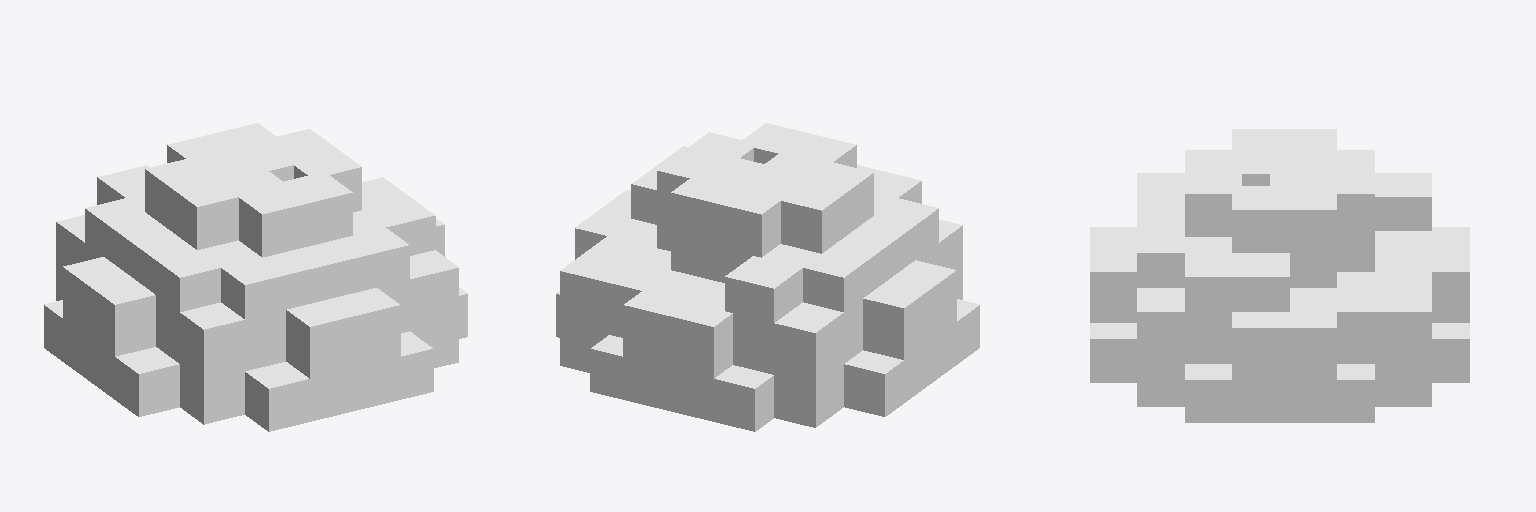
File: ZonaMundoPelea-3-RocaGrande2.obj
3 renders of one model, left to right at view 1: azimuth 30°, elevation 25°; view 2: azimuth 150°, elevation 25°; view 3: azimuth 270°, elevation 25°, orthographic.
Visible parts, largest first — view 1: RocaGrande2; view 2: RocaGrande2; view 3: RocaGrande2.
Boxes of the visible parts, box(x1,y1,x2,y2) form: RocaGrande2: box(44, 123, 467, 431); RocaGrande2: box(556, 123, 979, 431); RocaGrande2: box(1090, 129, 1469, 422).
Size of the model in its own units: 4 by 2 by 4.